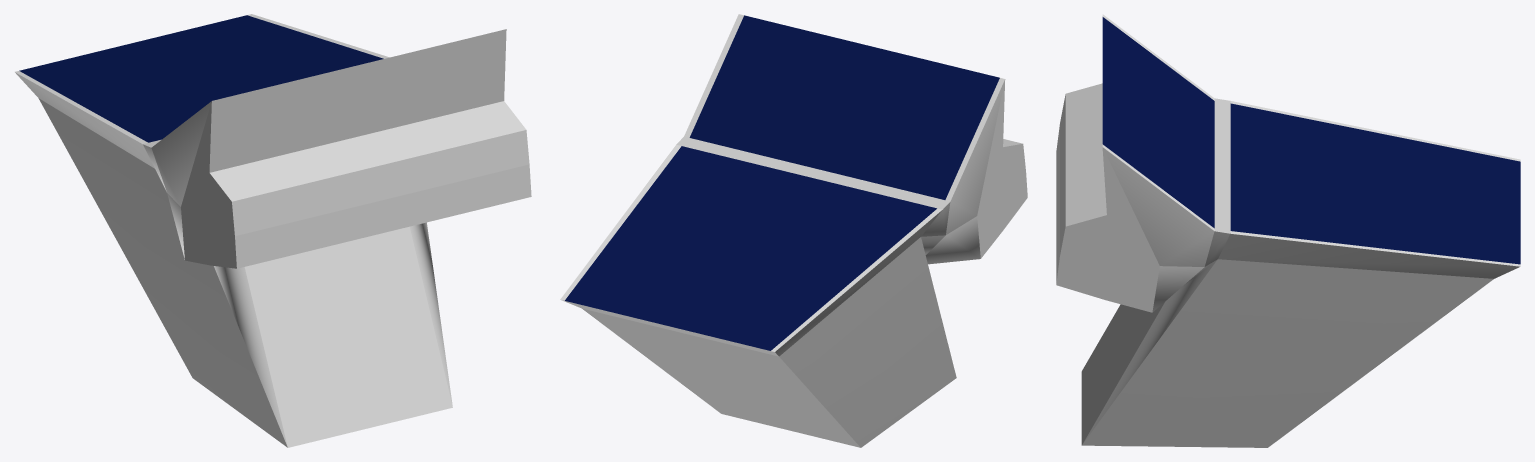
File: StartingBlock.fbx
The picture shows the model from 3 angles, left to right: view 1: azimuth 30°, elevation 25°; view 2: azimuth 150°, elevation 25°; view 3: azimuth 270°, elevation 25°; orthographic projection. The views are drawn at different scales.
Parts seen in each view (by area): view 1: StartingBlock; view 2: StartingBlock; view 3: StartingBlock.
Part boxes in pixels (<box>): StartingBlock: <box>15,14,531,447</box>; StartingBlock: <box>560,14,1027,447</box>; StartingBlock: <box>1056,14,1520,447</box>.
Bounding box in the file's own units: 1 × 1.17 × 1.48.
